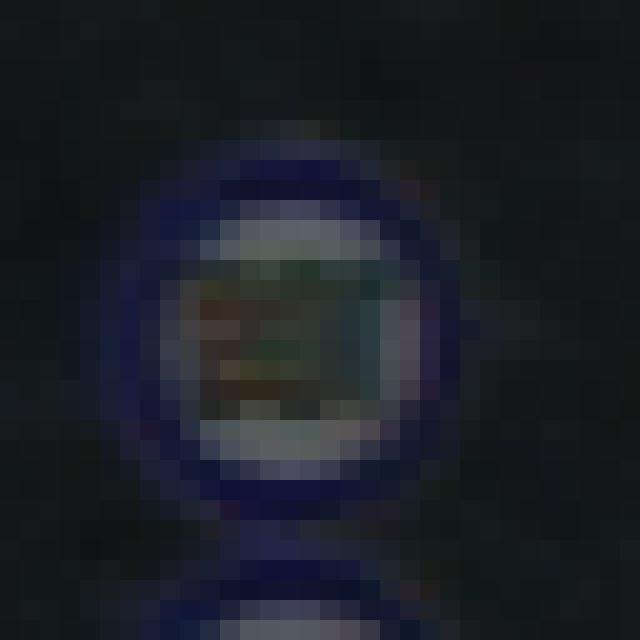SPEED LIMIT 100: (81, 125, 488, 511)
